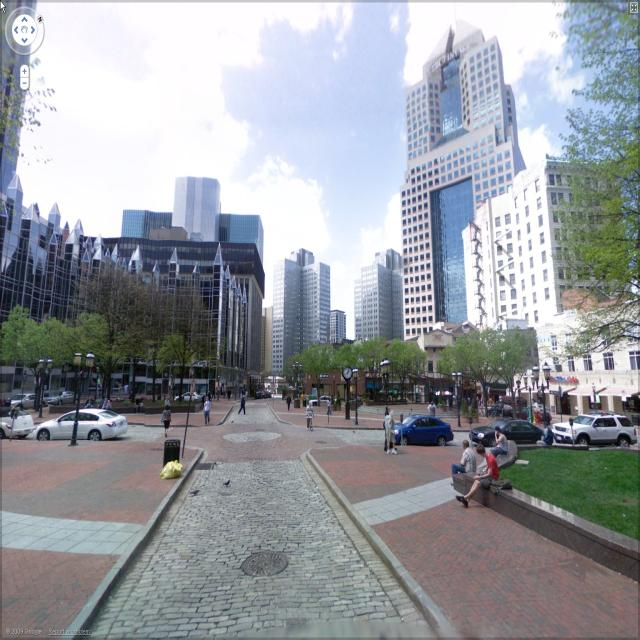b_1: (404, 48, 522, 334), (472, 160, 568, 328), (213, 255, 256, 391), (284, 240, 332, 353), (354, 247, 402, 346), (260, 297, 290, 396), (326, 304, 348, 352)
b_2: (0, 228, 252, 394), (529, 146, 640, 416), (538, 309, 640, 422), (432, 326, 548, 414), (297, 349, 418, 407)
